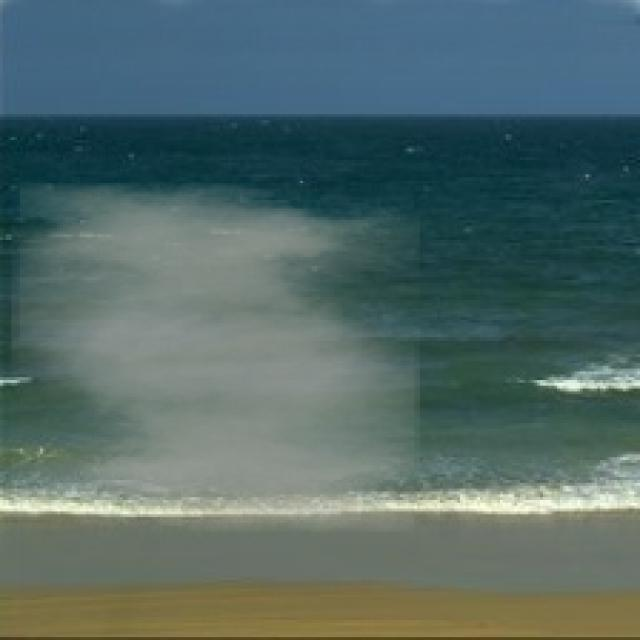smoke: (11, 183, 420, 531)
